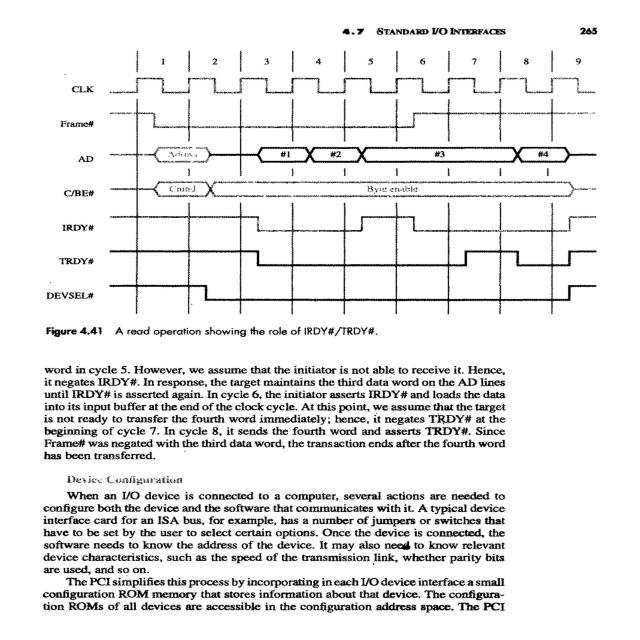diagram: (48, 11, 640, 352)
